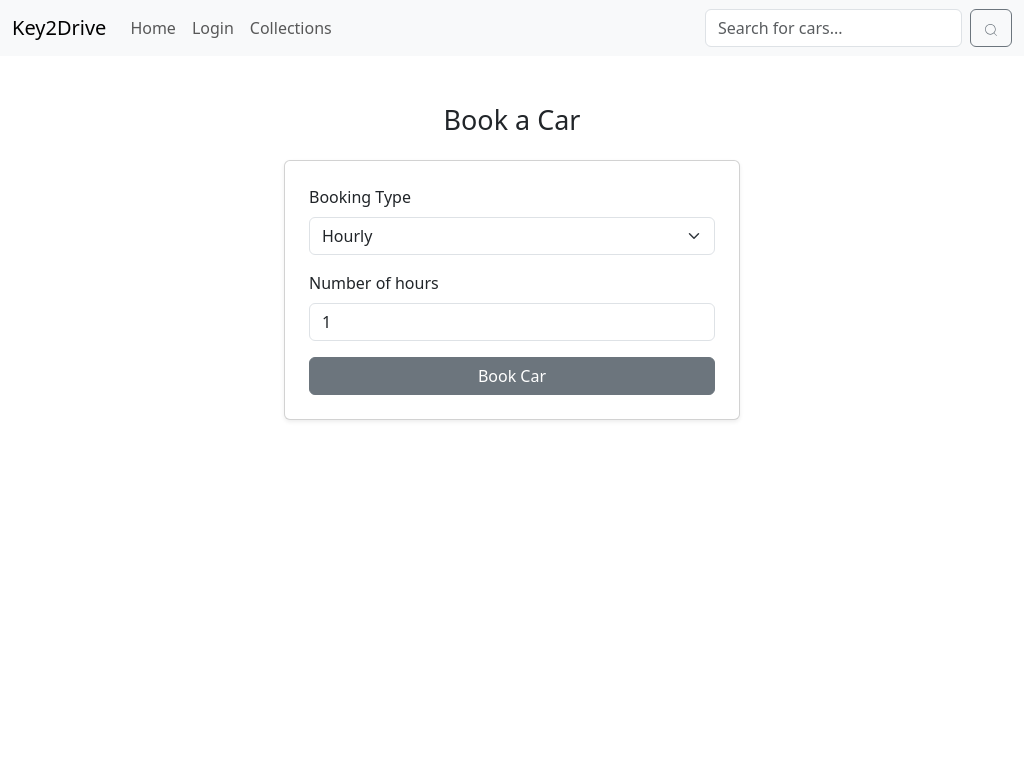
Test: BookPage Component › submits booking data successfully
Select "Daily" in the dropdown labelled "Booking Type": (512, 236) [309,217,715,255]
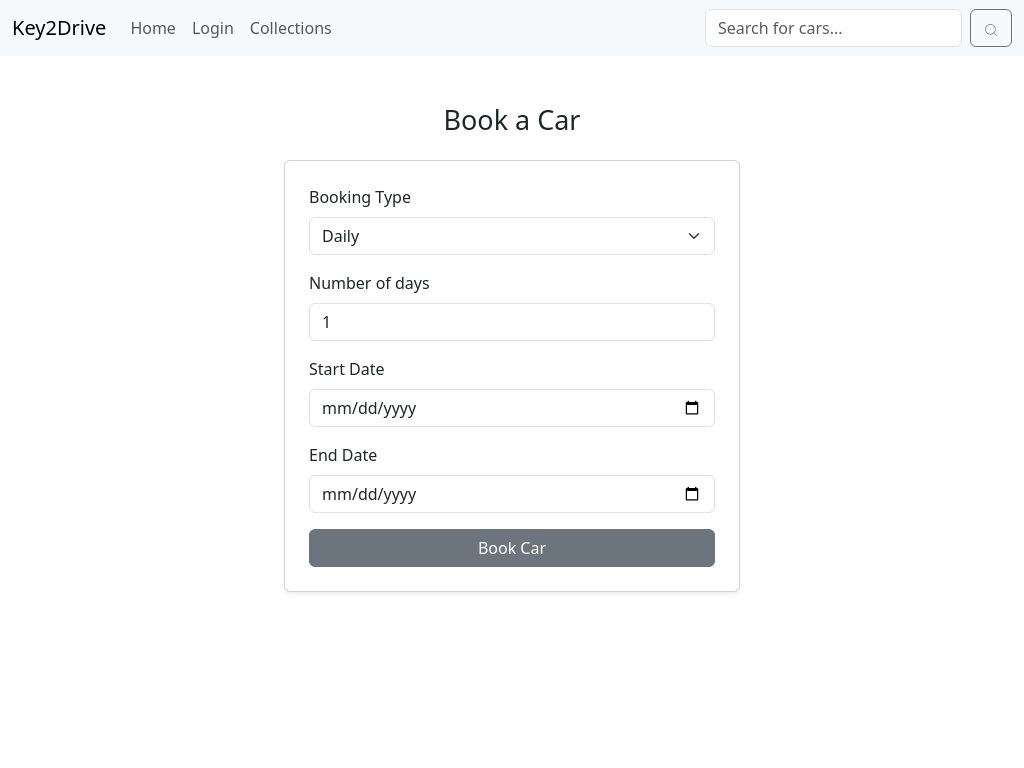
Replace the text in the number field labelled "Number of days" with "2": (512, 322) [309,303,715,341]
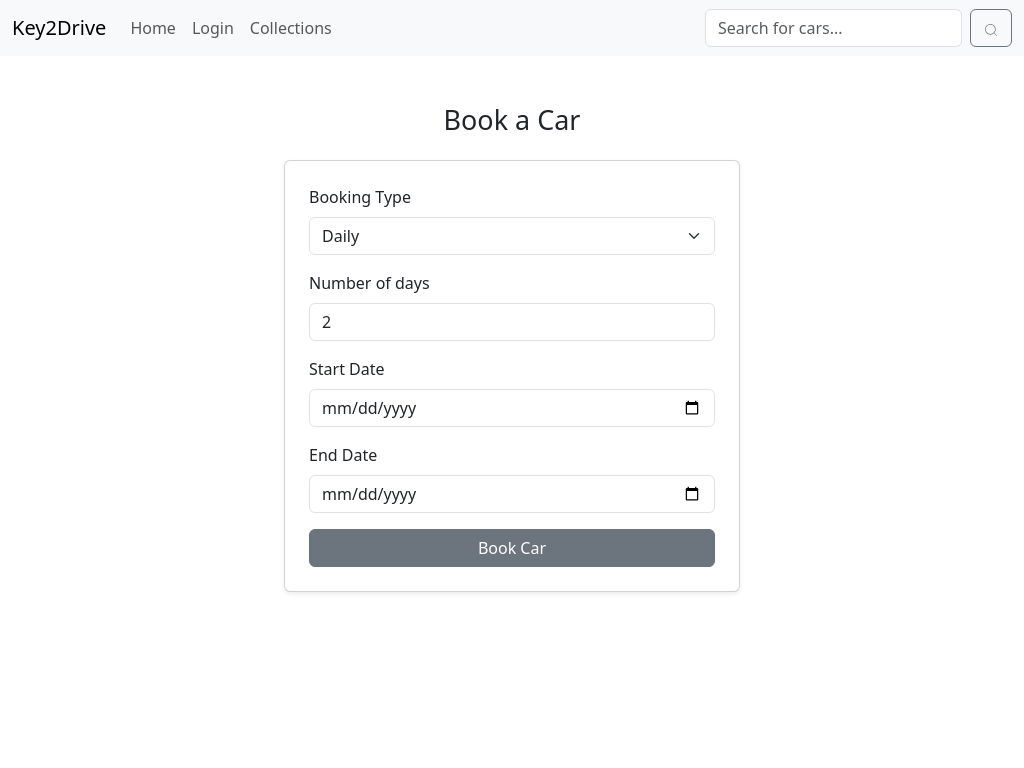
In the date field labelled "Start Date": (512, 408) [309,389,715,427], type "2024-12-15"
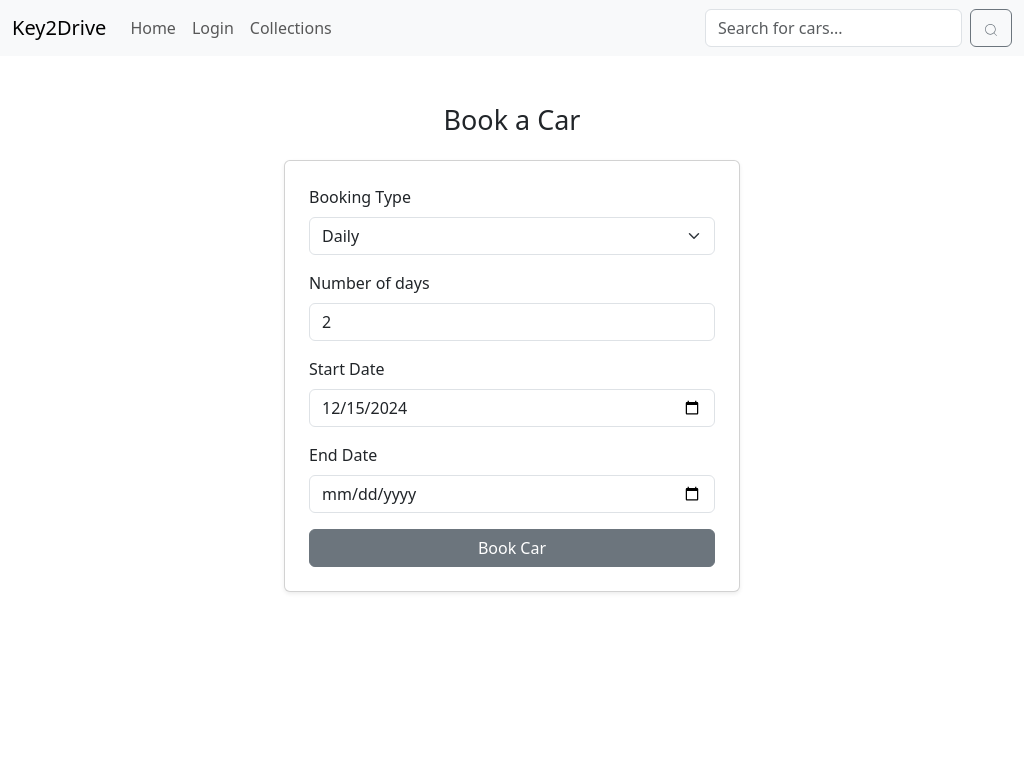
In the date field labelled "End Date": (512, 494) [309,475,715,513], type "2024-12-17"
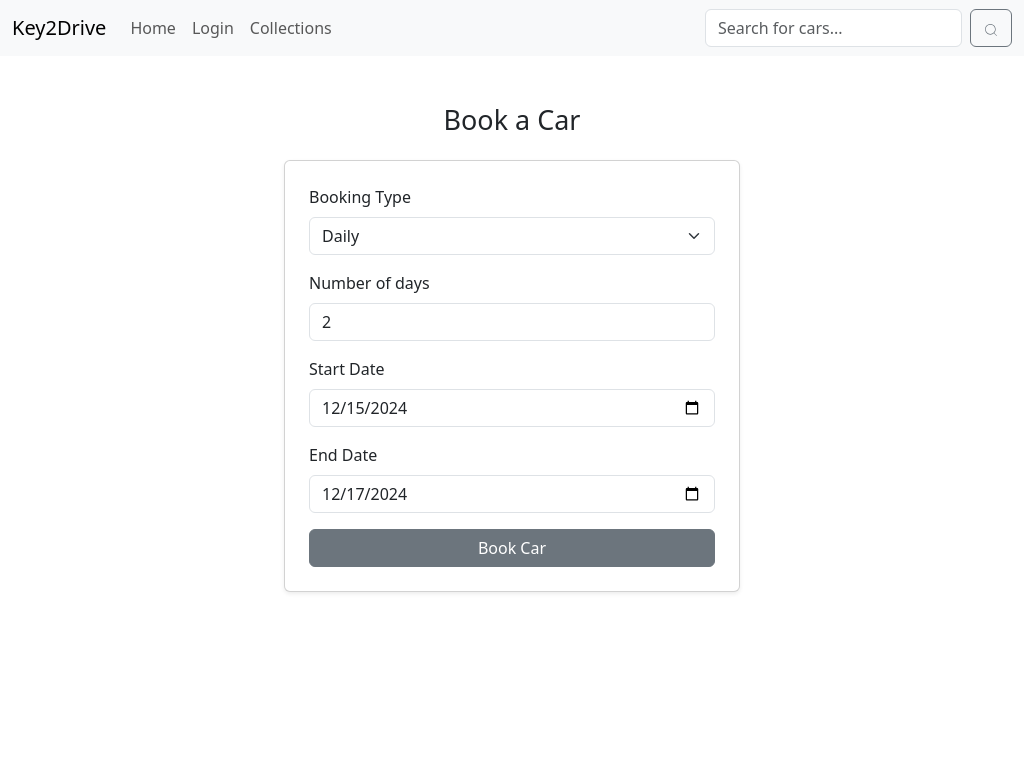
Click the button "Book Car": (512, 548) [309,529,715,567]
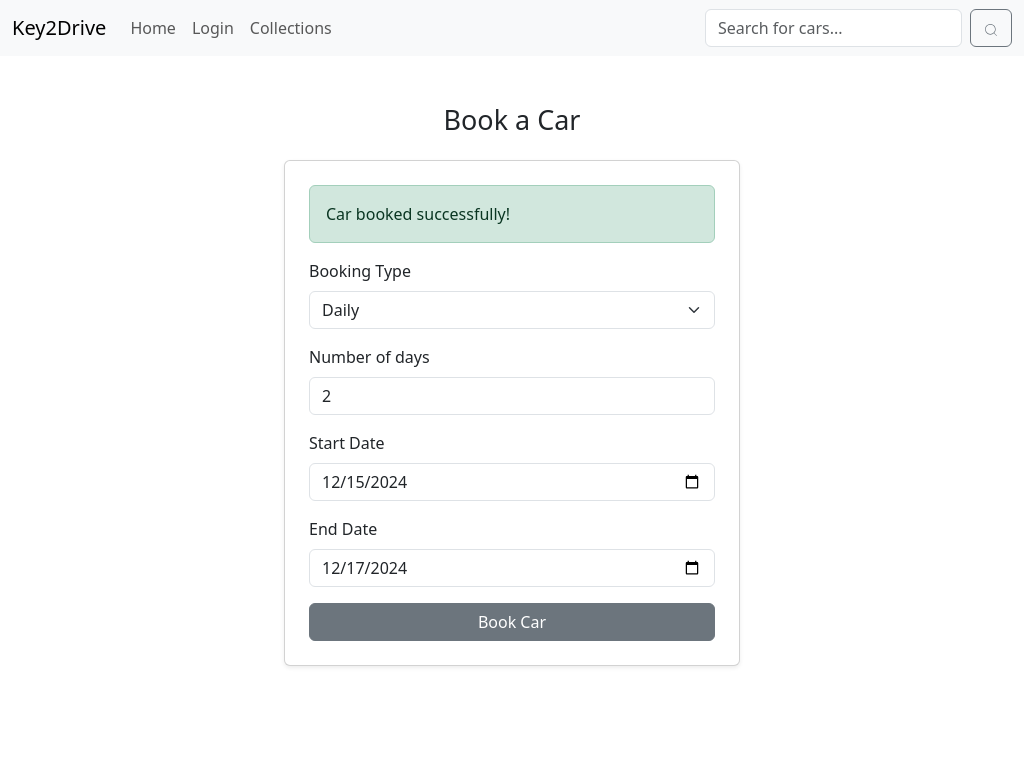
Result: the text "Car booked successfully!" is shown at [309,185,715,243]
